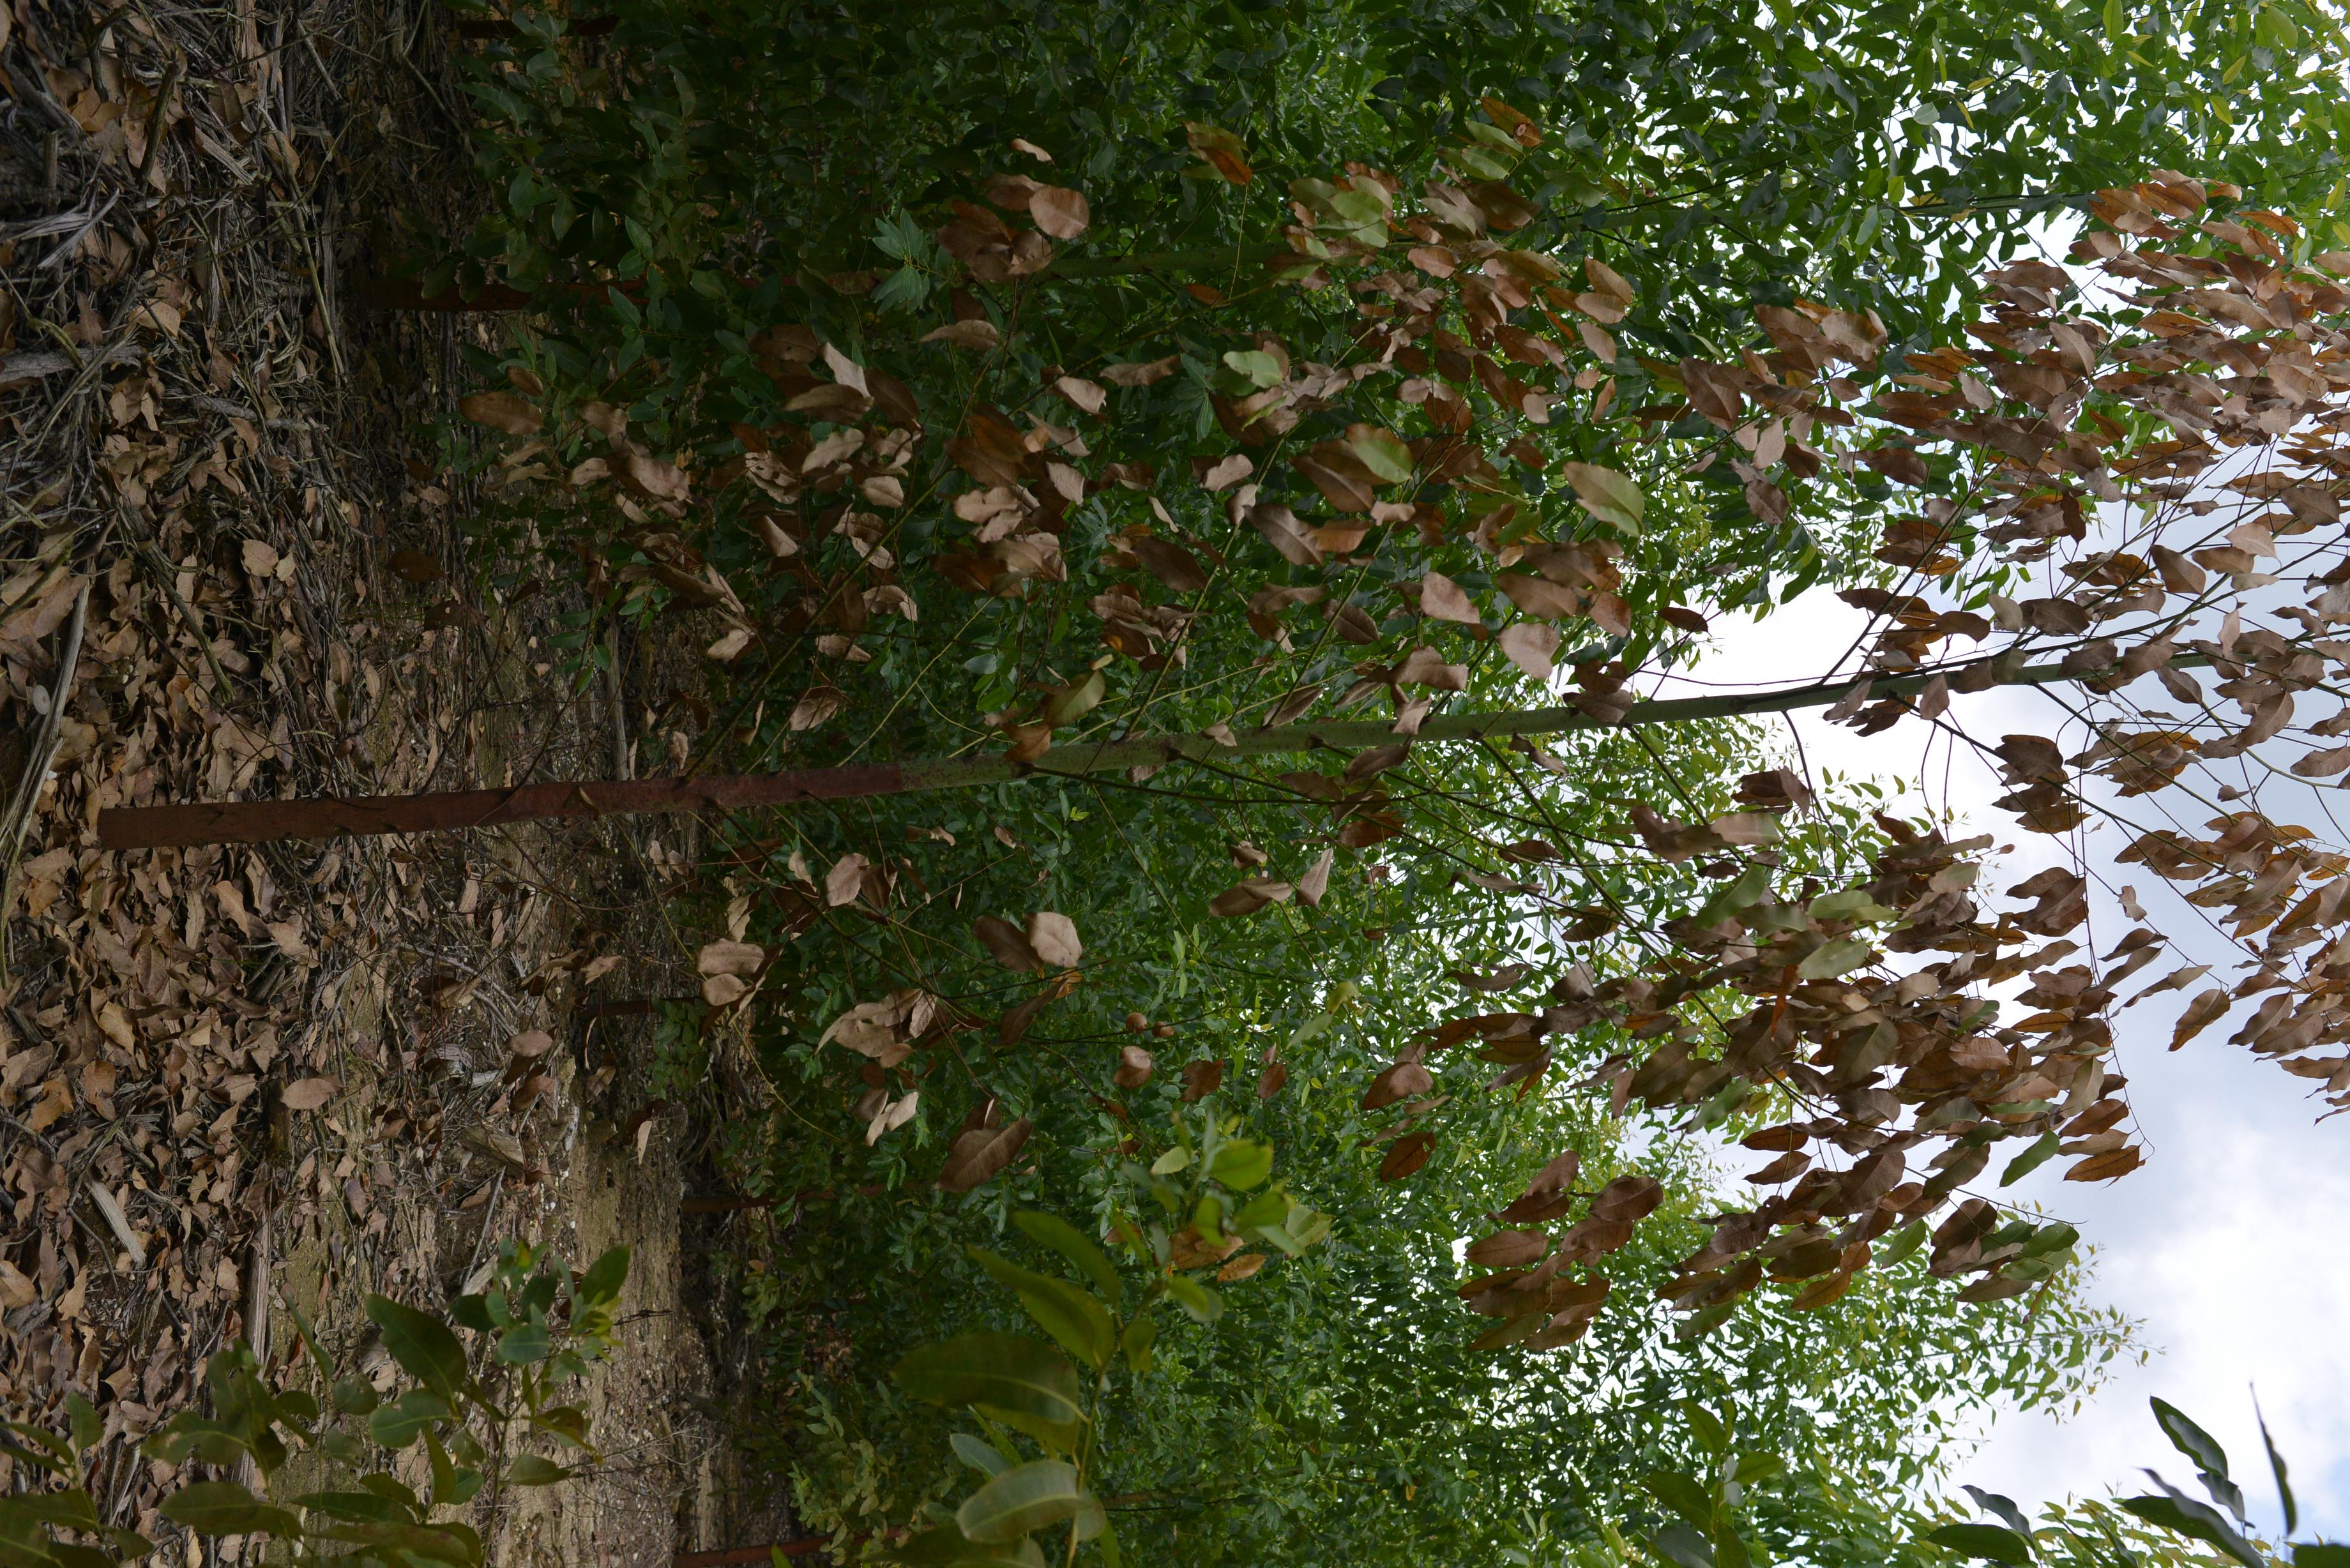Wither Tree Parts: (96, 138, 2350, 1340)
